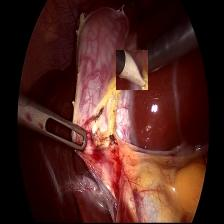Grasper: (18, 92, 88, 154)
Hook: (116, 50, 148, 90)
